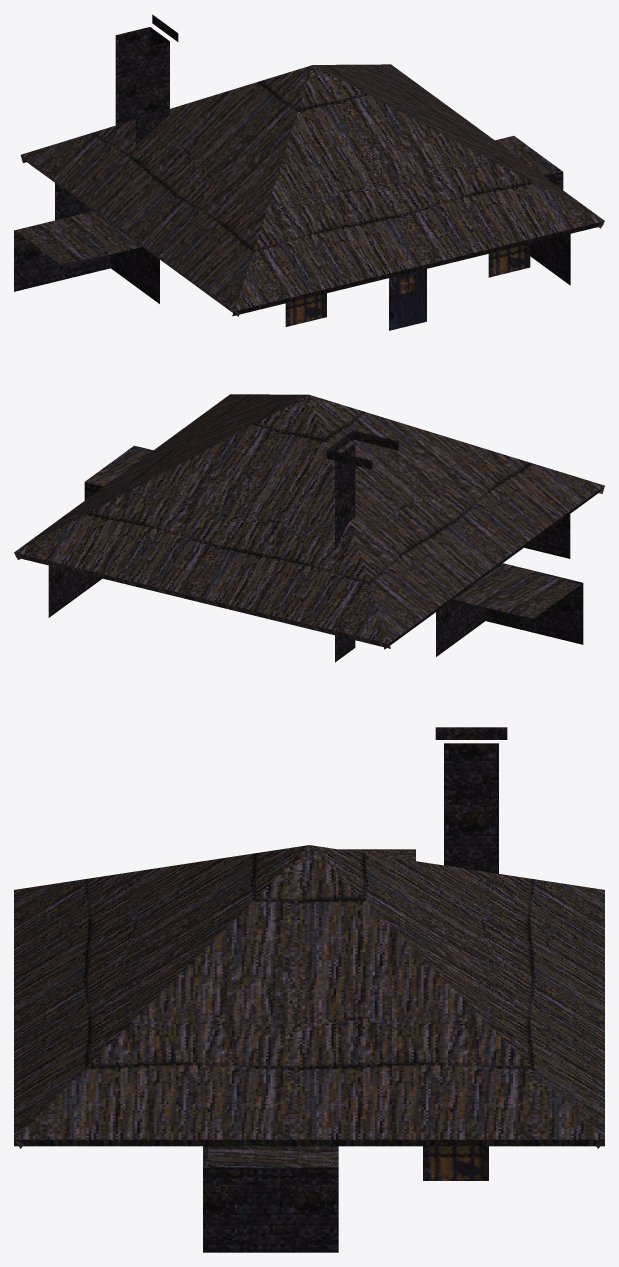
3 renders of one model, top to bottom at view 1: azimuth 30°, elevation 25°; view 2: azimuth 150°, elevation 25°; view 3: azimuth 270°, elevation 25°, orthographic. The views are drawn at different scales.
Parts seen in each view (by area): view 1: b_46_74; view 2: b_46_74; view 3: b_46_74.
Boxes of the visible parts, bbox=[...] form: b_46_74: bbox=[14, 14, 604, 330]; b_46_74: bbox=[14, 394, 604, 662]; b_46_74: bbox=[14, 727, 604, 1252].
Size of the model in its own units: 13.66 by 5.85 by 10.72.
4 materials, 4 textured.
